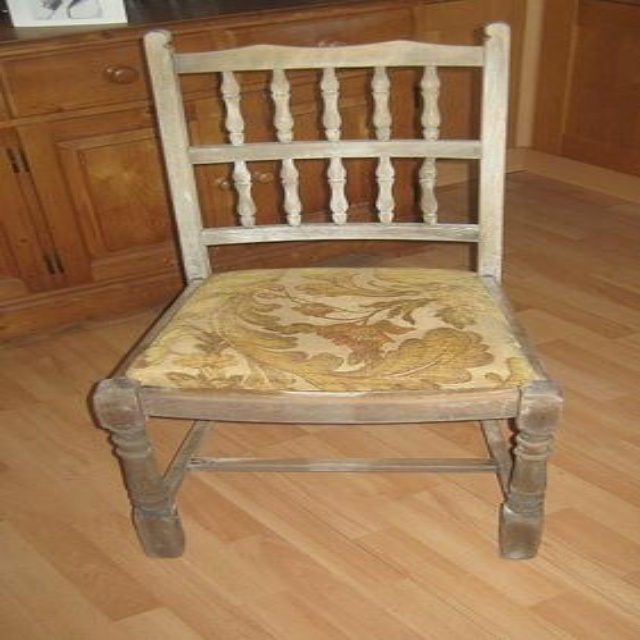obstacle: (93, 23, 560, 557)
